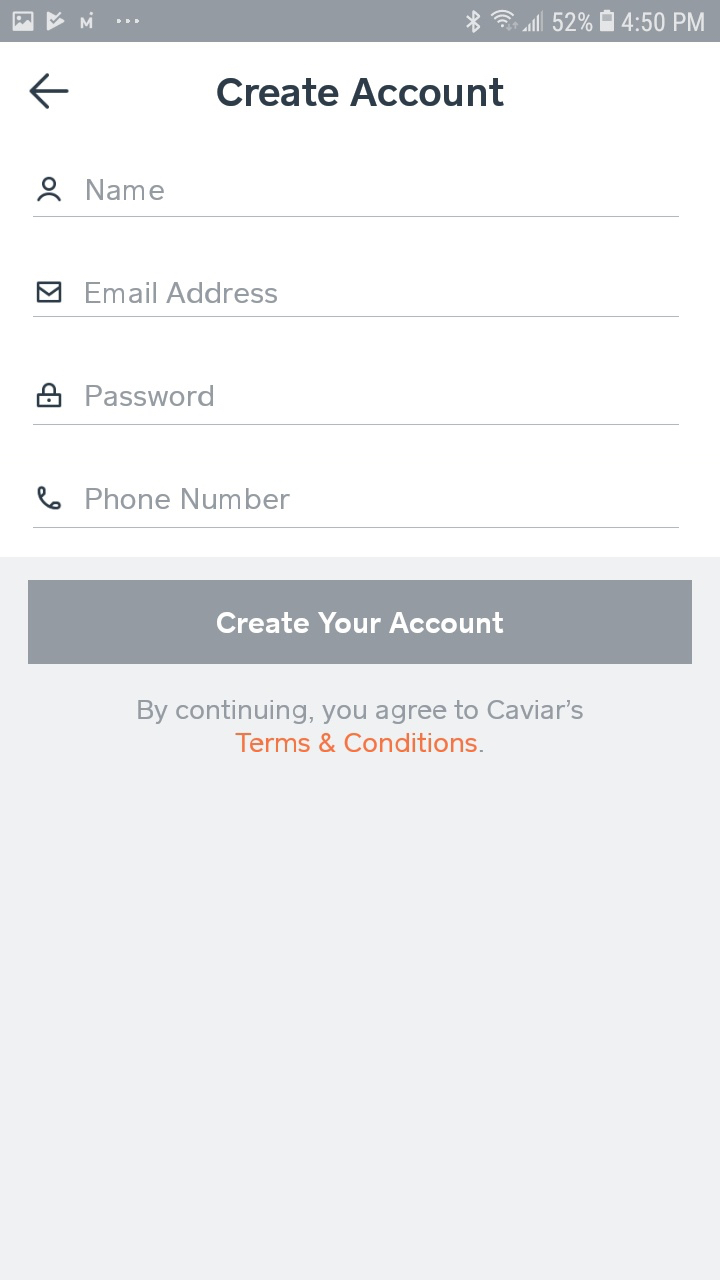EditText: (34, 382, 680, 426), (34, 485, 680, 529), (33, 176, 679, 218), (33, 281, 679, 318)
Icon: (29, 73, 70, 111), (37, 383, 63, 409), (38, 177, 63, 203), (38, 485, 63, 511), (37, 281, 63, 304)
Text: (138, 699, 584, 753), (217, 78, 505, 108), (86, 488, 291, 510), (86, 282, 278, 305), (86, 385, 214, 407), (88, 180, 166, 202)
TextButton: (28, 580, 692, 665)
UpperTaskBar: (1, 1, 720, 43)
